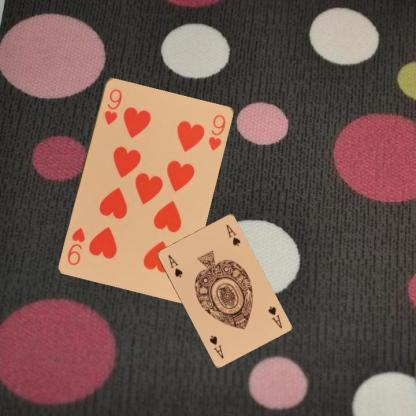9h: (101, 85, 123, 126)
As: (165, 251, 184, 278), (265, 304, 283, 330)
